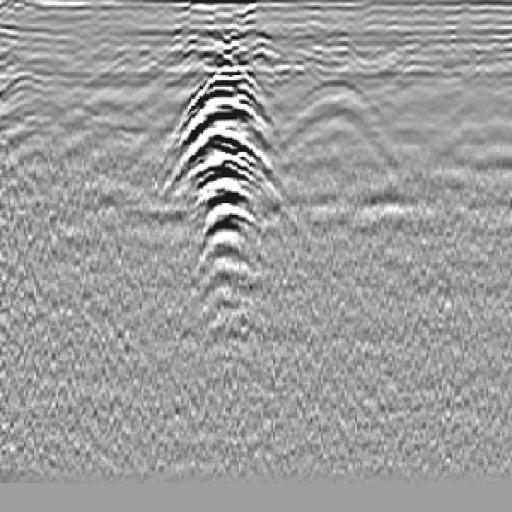metalic: (167, 52, 289, 314)
nonmetalic: (276, 71, 401, 181)
